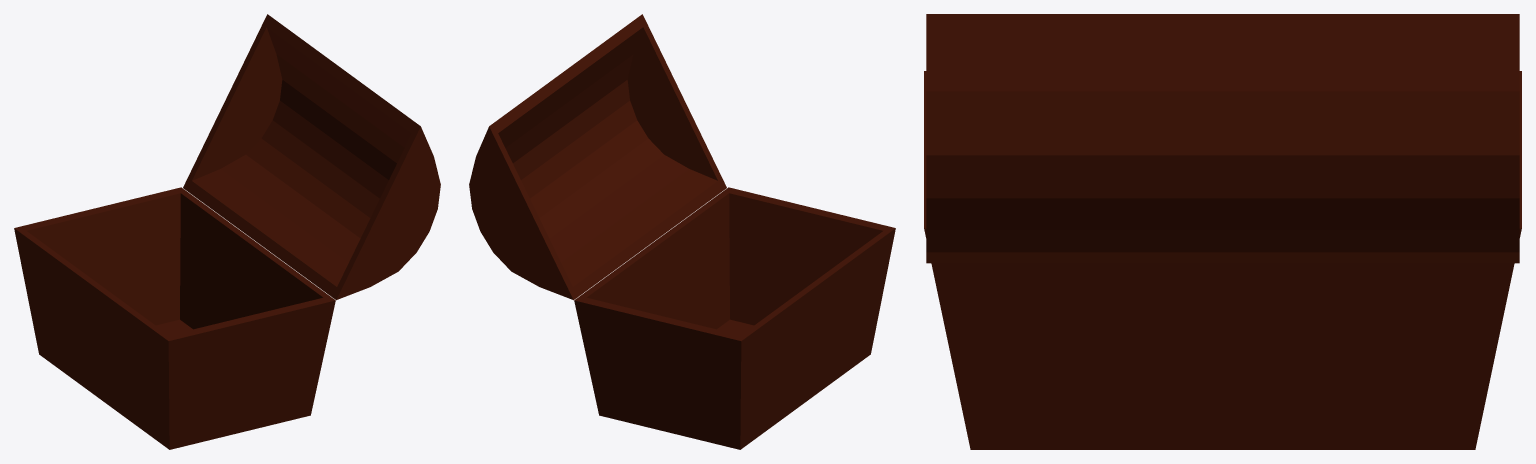
Rendered from chestlx.fbx.
The picture shows the model from 3 angles, left to right: view 1: azimuth 30°, elevation 25°; view 2: azimuth 150°, elevation 25°; view 3: azimuth 270°, elevation 25°; orthographic projection. The views are drawn at different scales.
Visible parts, largest first — view 1: Cube.001, Plane.001; view 2: Cube.001, Plane.001; view 3: Plane.001, Cube.001.
Part boxes in pixels (x1,y1,x2,y2): Cube.001: (14,187,335,449); Plane.001: (183,14,440,300); Cube.001: (574,187,895,449); Plane.001: (469,14,726,300); Plane.001: (926,14,1519,263); Cube.001: (924,71,1521,449).
Size of the model in its own units: 381 by 365 by 374.
